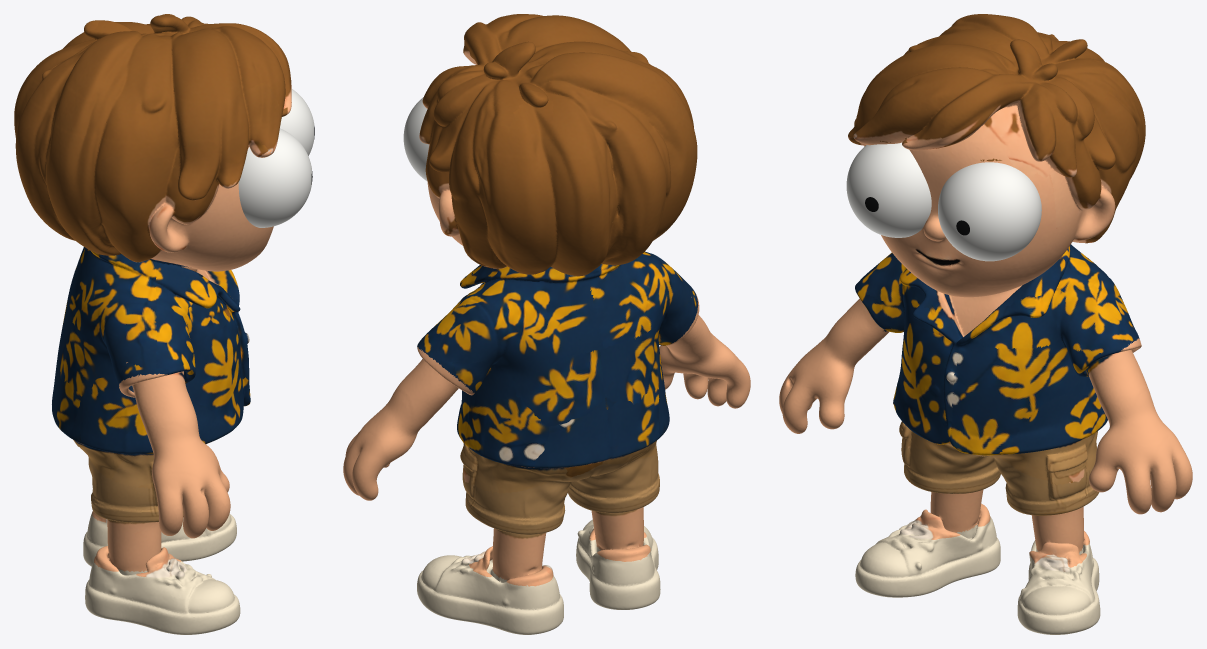
The model's file is Customer-Corrected-v2.glb.
3 renders of one model, left to right at view 1: azimuth 30°, elevation 25°; view 2: azimuth 150°, elevation 25°; view 3: azimuth 270°, elevation 25°, orthographic.
Parts seen in each view (by area): view 1: Customer_Corrected_v2; view 2: Customer_Corrected_v2; view 3: Customer_Corrected_v2.
Boxes of the visible parts, x1,y1,x2,y2 form: Customer_Corrected_v2: [14, 14, 314, 634]; Customer_Corrected_v2: [343, 14, 750, 634]; Customer_Corrected_v2: [779, 14, 1192, 634].
Size of the model in its own units: 0.5073 by 1 by 0.6718.
6 materials, 1 textured.
